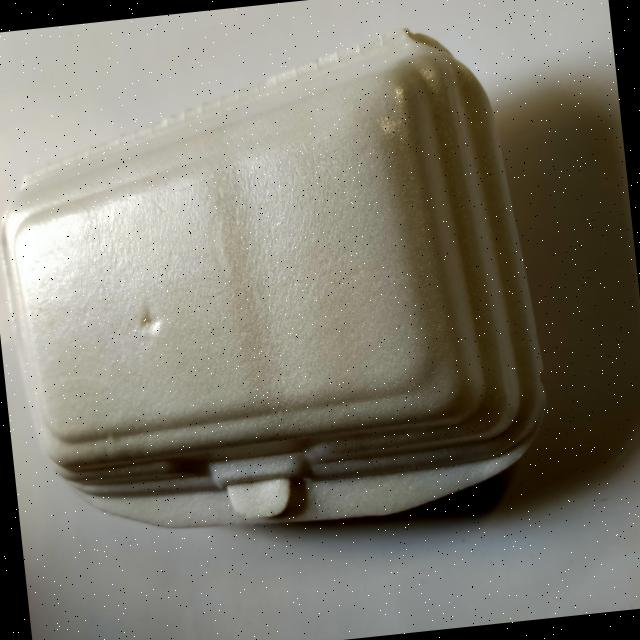styrofoam: (0, 14, 560, 554)
